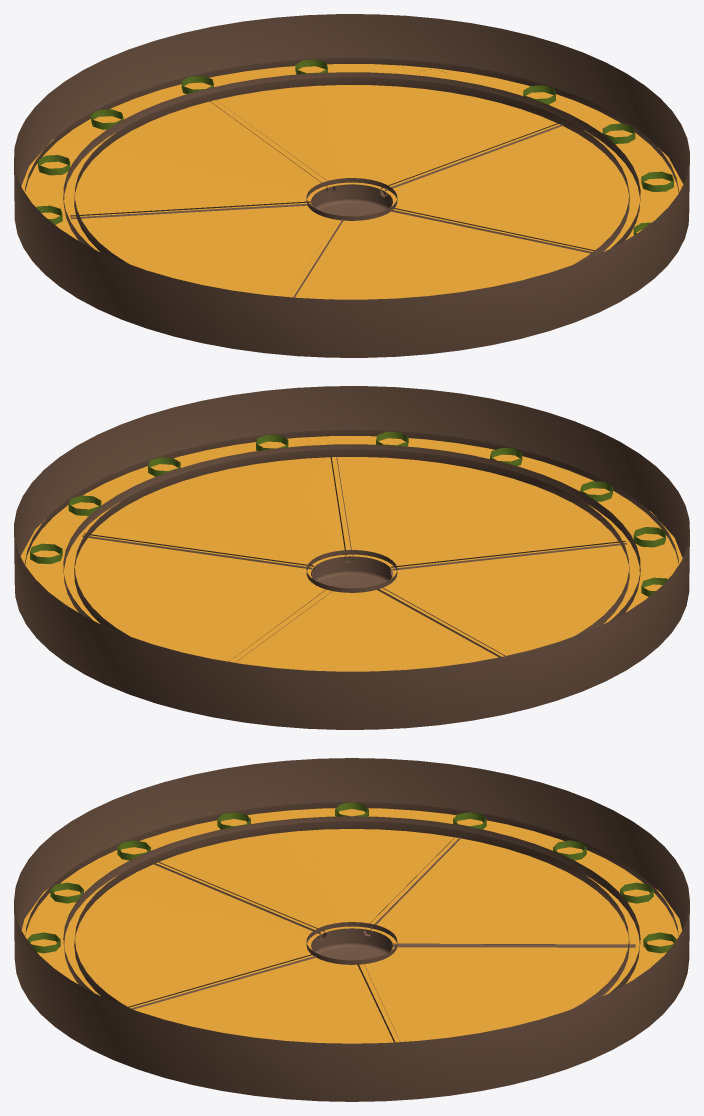
Rendered from item_roullet.glb.
3 views of the same model, one above another, from view 1: azimuth 30°, elevation 25°; view 2: azimuth 150°, elevation 25°; view 3: azimuth 270°, elevation 25° (orthographic).
Parts seen in each view (by area): view 1: sweep7.001; view 2: sweep7.001; view 3: sweep7.001.
Boxes of the visible parts, <box> form: sweep7.001: <box>14,14,689,357</box>; sweep7.001: <box>14,386,689,729</box>; sweep7.001: <box>14,758,689,1101</box>.
Bounding box in the file's own units: 5.01 × 0.5248 × 5.01.
Materials: 1 (1 with a texture image).
